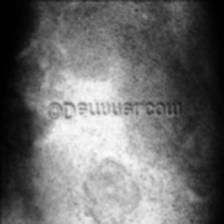Toxin: (77, 150, 141, 224), (62, 6, 124, 82)
